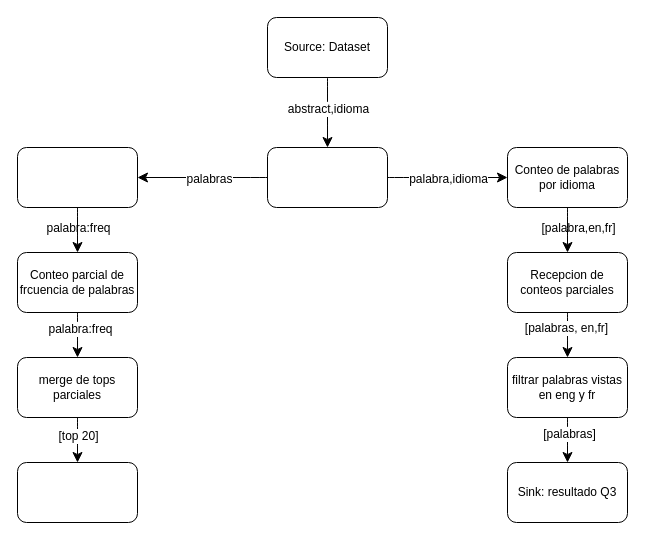
The diagram is 645 pixels wide and 540 high, and some of its shapes have lost their labels. The centre of each missing label's shape, as x and y in pixels:
"Conteo de palabras" goes at (x=77, y=177).
"limpieza de stopwords" goes at (x=327, y=177).
"Sink: resultado Q4" goes at (x=77, y=492).
